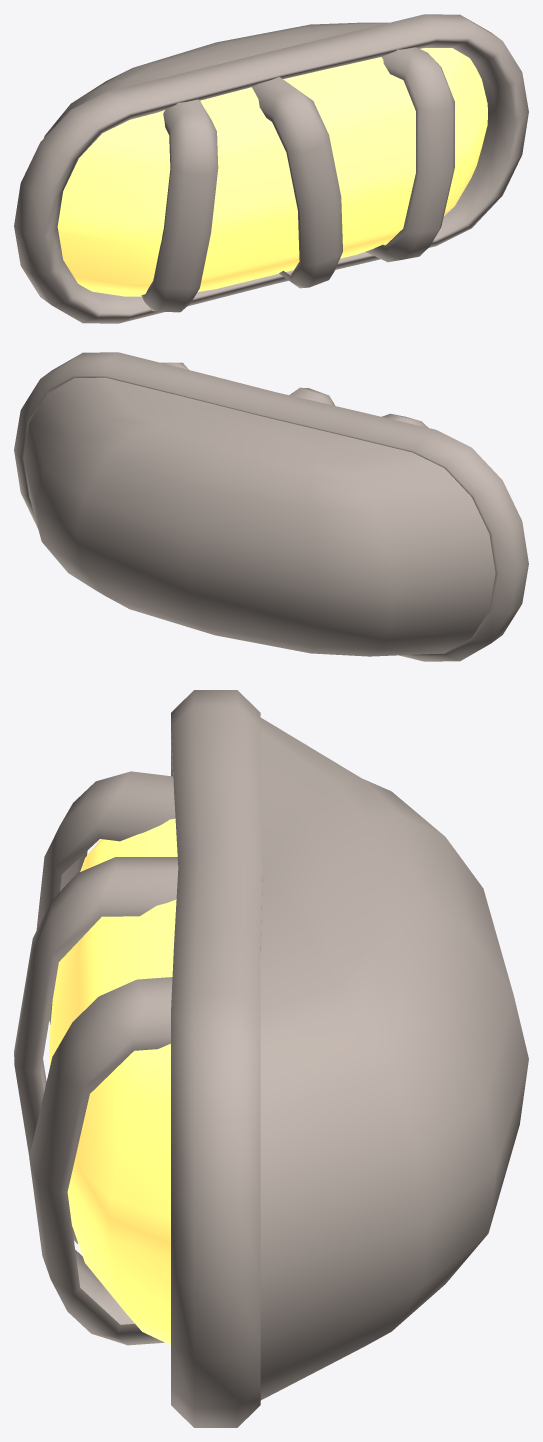
The model's file is SM_Street_Light_02.fbx.
3 views of the same model, one above another, from view 1: azimuth 30°, elevation 25°; view 2: azimuth 150°, elevation 25°; view 3: azimuth 270°, elevation 25° (orthographic). The views are drawn at different scales.
Parts seen in each view (by area): view 1: SM_Street_Light_02; view 2: SM_Street_Light_02; view 3: SM_Street_Light_02.
Part boxes in pixels (x1,y1,x2,y2): SM_Street_Light_02: (14, 14, 528, 323); SM_Street_Light_02: (14, 352, 528, 661); SM_Street_Light_02: (14, 690, 528, 1427).
Size of the model in its own units: 128 by 54.49 by 60.96.
